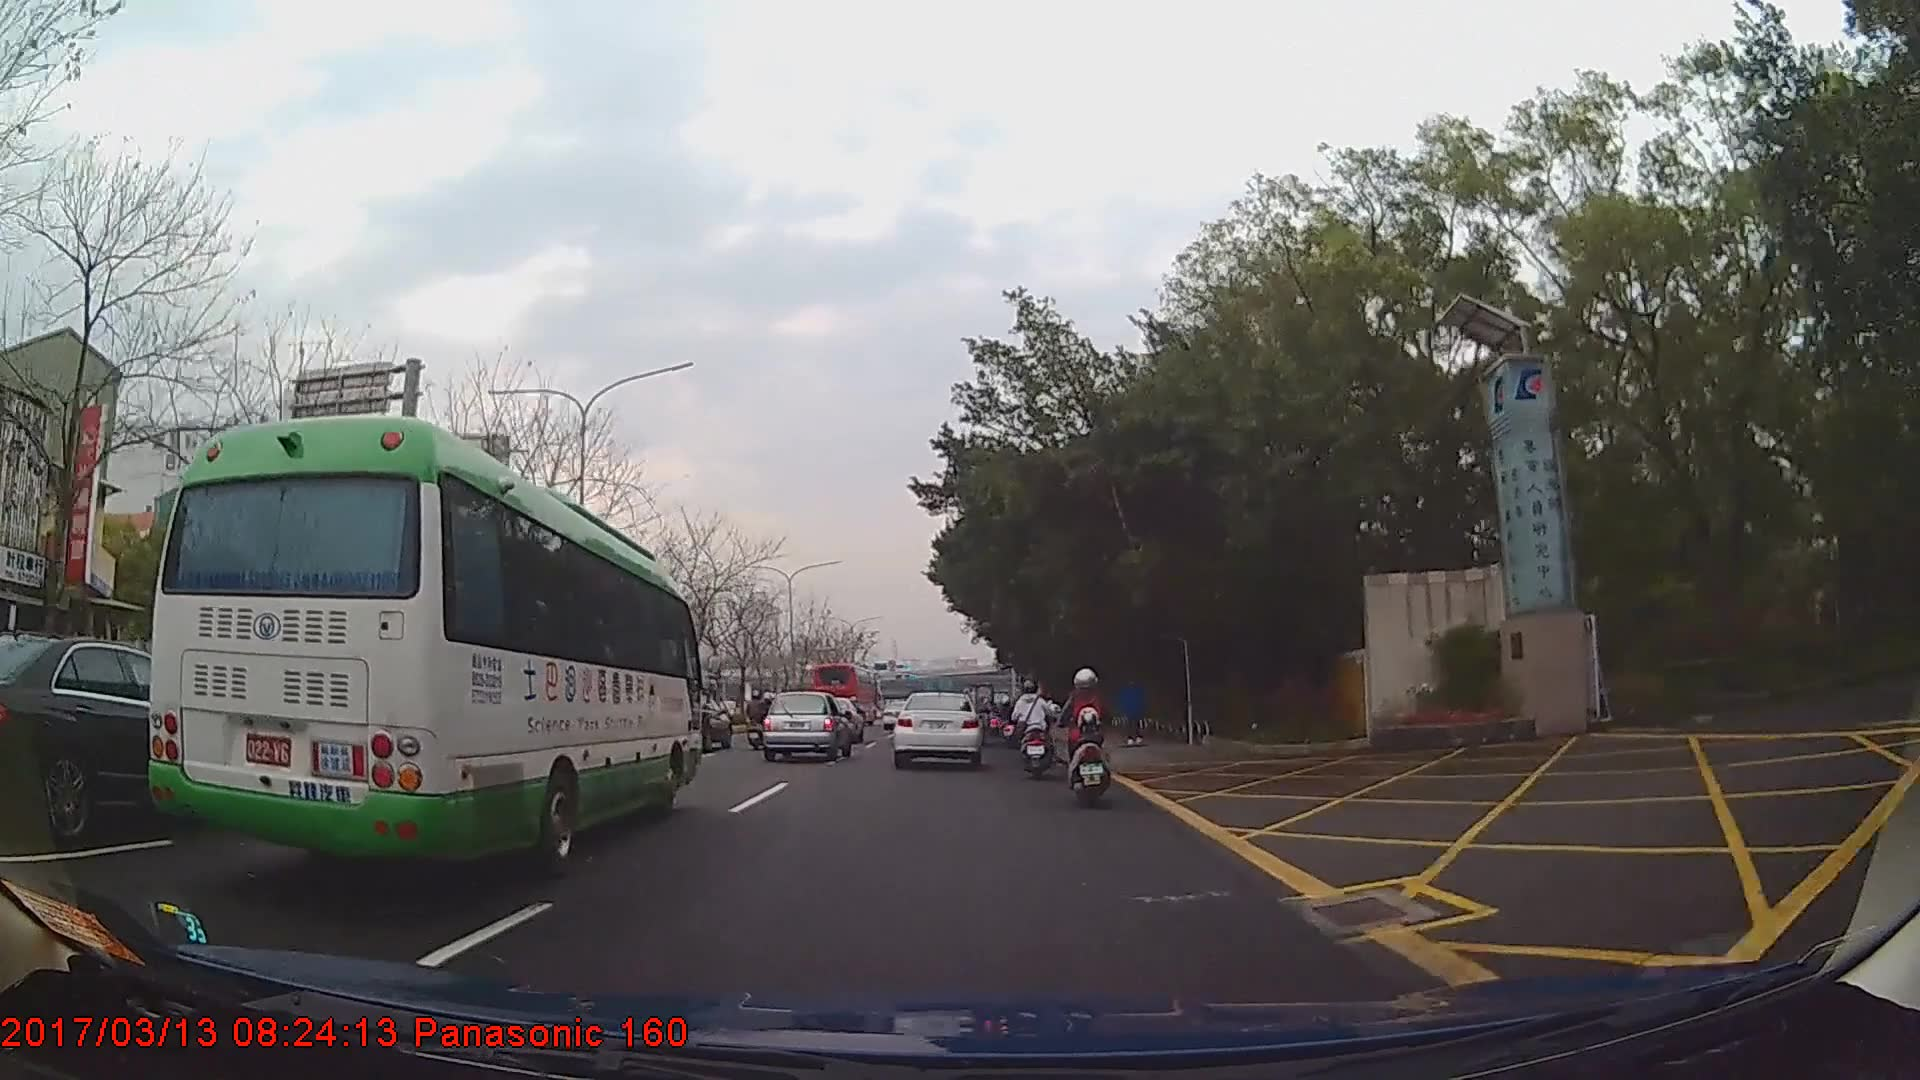pedestrian: (1117, 680, 1145, 749)
rider: (1062, 666, 1111, 807), (1010, 684, 1054, 780), (748, 690, 772, 743)
vehicle: (147, 414, 700, 878), (0, 633, 269, 845), (889, 688, 982, 767), (761, 690, 851, 764), (810, 660, 877, 727)
